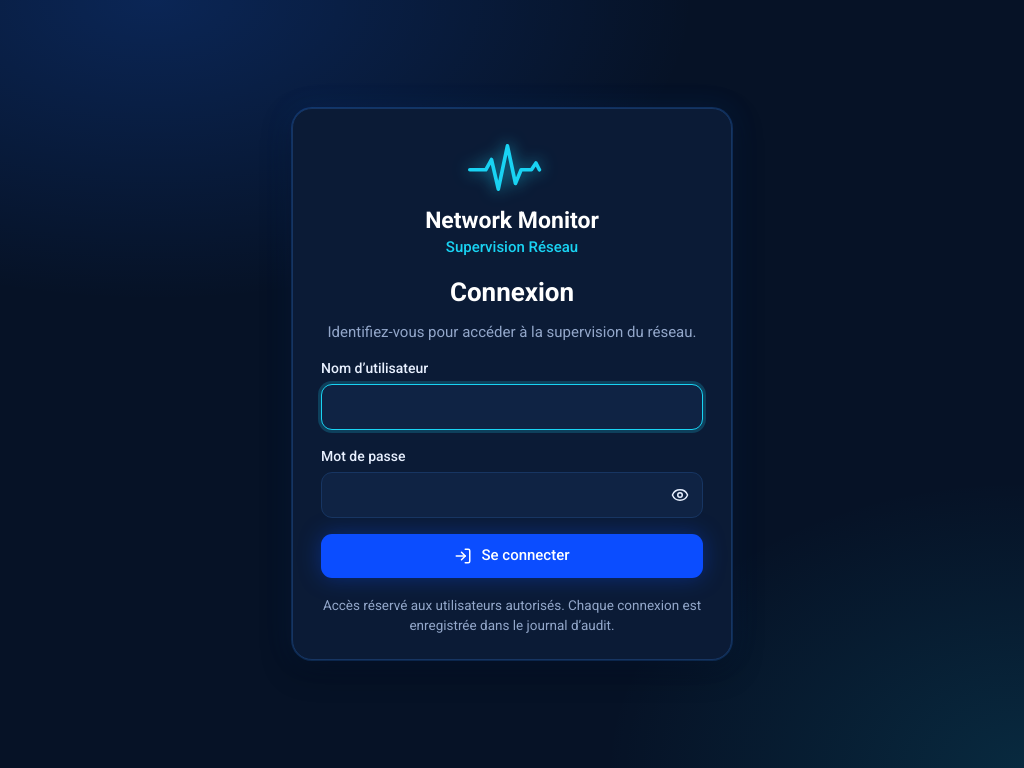
connexion › refuse un formulaire vide sans appeler le serveur
Step 1. Click the button "Se connecter" → coordinates (512, 556), box [321,534,703,578]
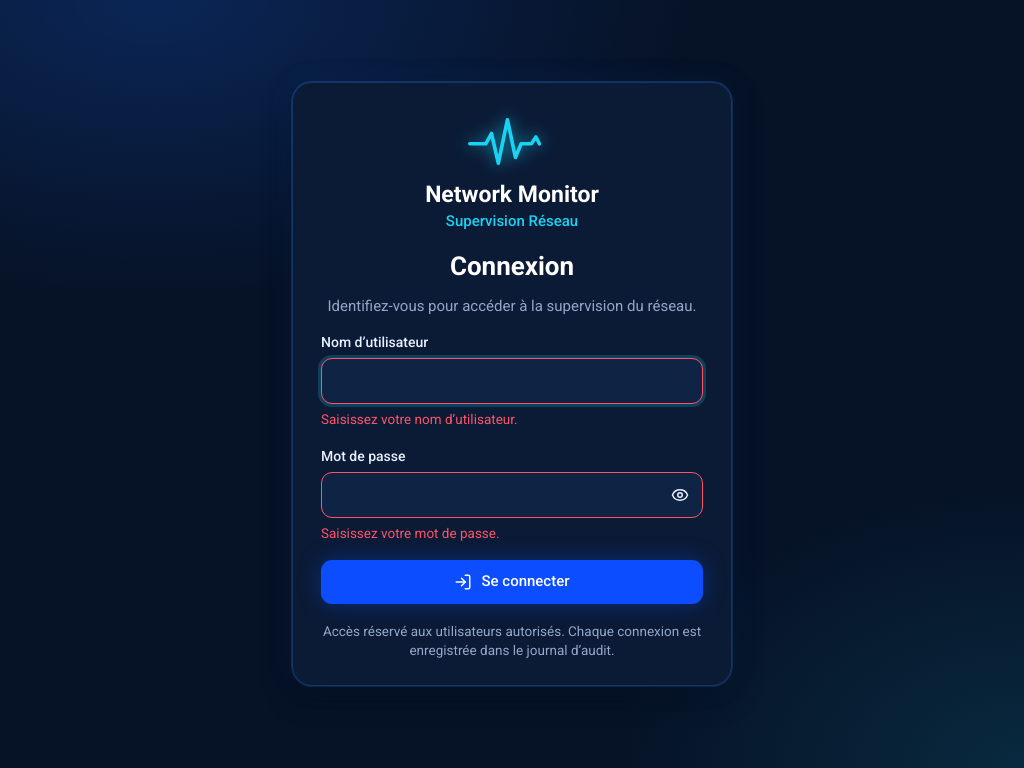
Expected: the text "Saisissez votre nom d’utilisateur." is shown, [321,411,518,427]
Expected: the text "Saisissez votre mot de passe." is shown, [321,525,500,541]
